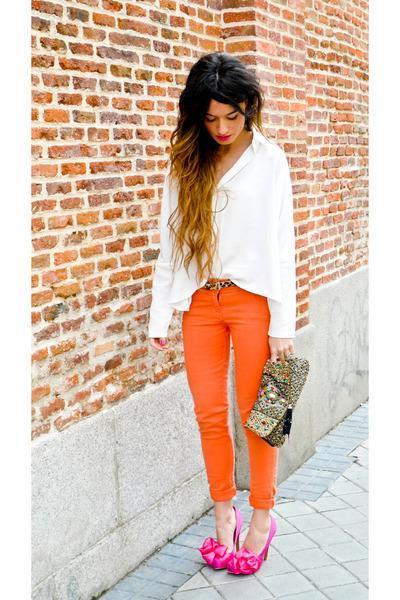long sleeve shirt: (137, 124, 302, 345)
trousers: (178, 277, 278, 514)
